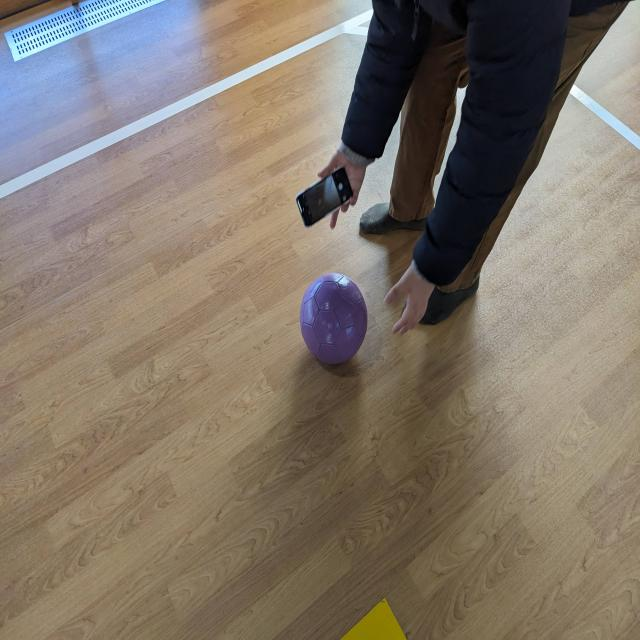purple_ball: (298, 272, 368, 366)
